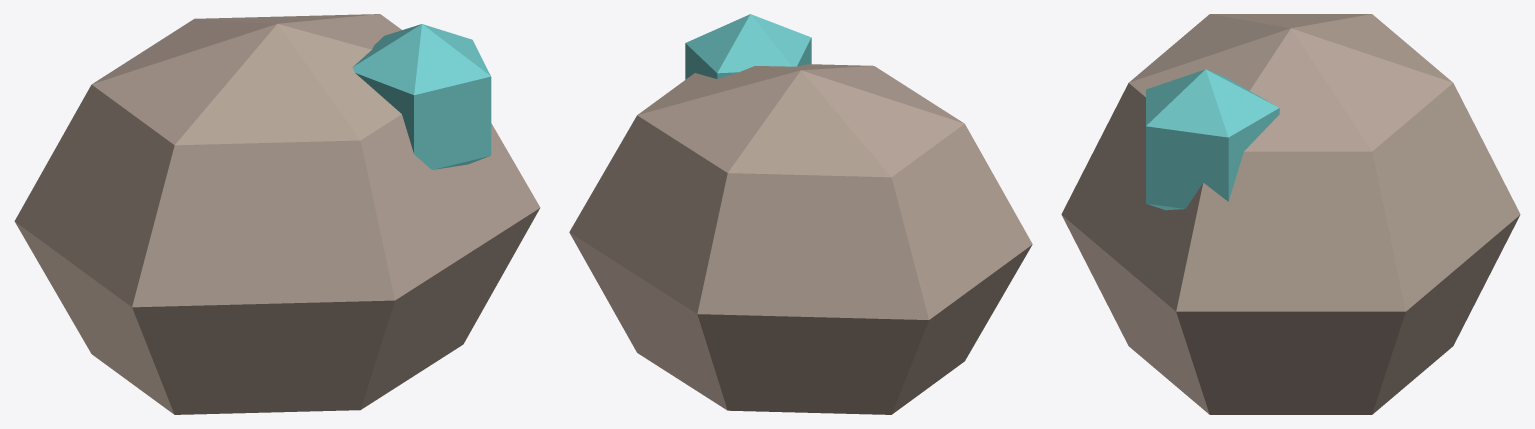
Rendered from ic_item_ore.glb.
The picture shows the model from 3 angles, left to right: view 1: azimuth 30°, elevation 25°; view 2: azimuth 150°, elevation 25°; view 3: azimuth 270°, elevation 25°; orthographic projection. The views are drawn at different scales.
Parts seen in each view (by area): view 1: ic_item_ore; view 2: ic_item_ore; view 3: ic_item_ore.
Boxes of the visible parts, x1,y1,x2,y2 form: ic_item_ore: (14, 14, 540, 414); ic_item_ore: (569, 14, 1032, 414); ic_item_ore: (1061, 14, 1520, 414).
Bounding box in the file's own units: 0.3239 × 0.2945 × 0.323.
